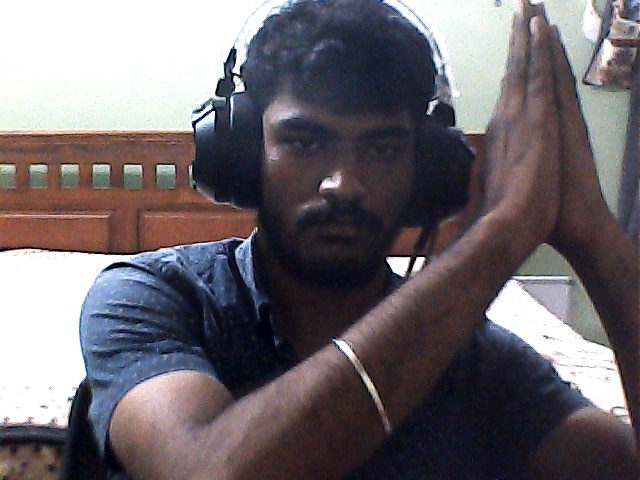Sign: (461, 4, 620, 256)
